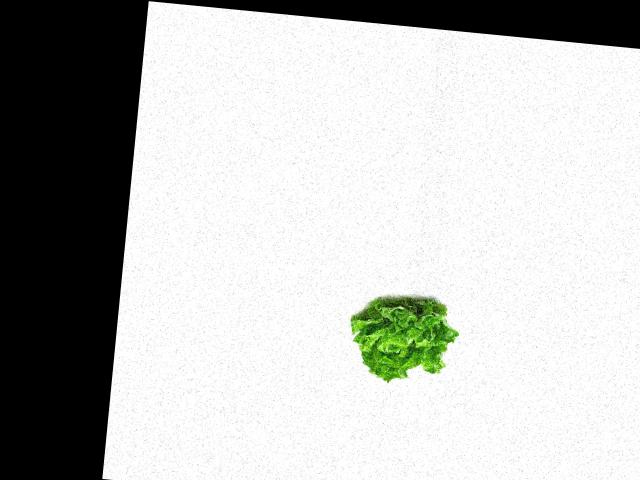lettuce: (347, 289, 460, 387)
